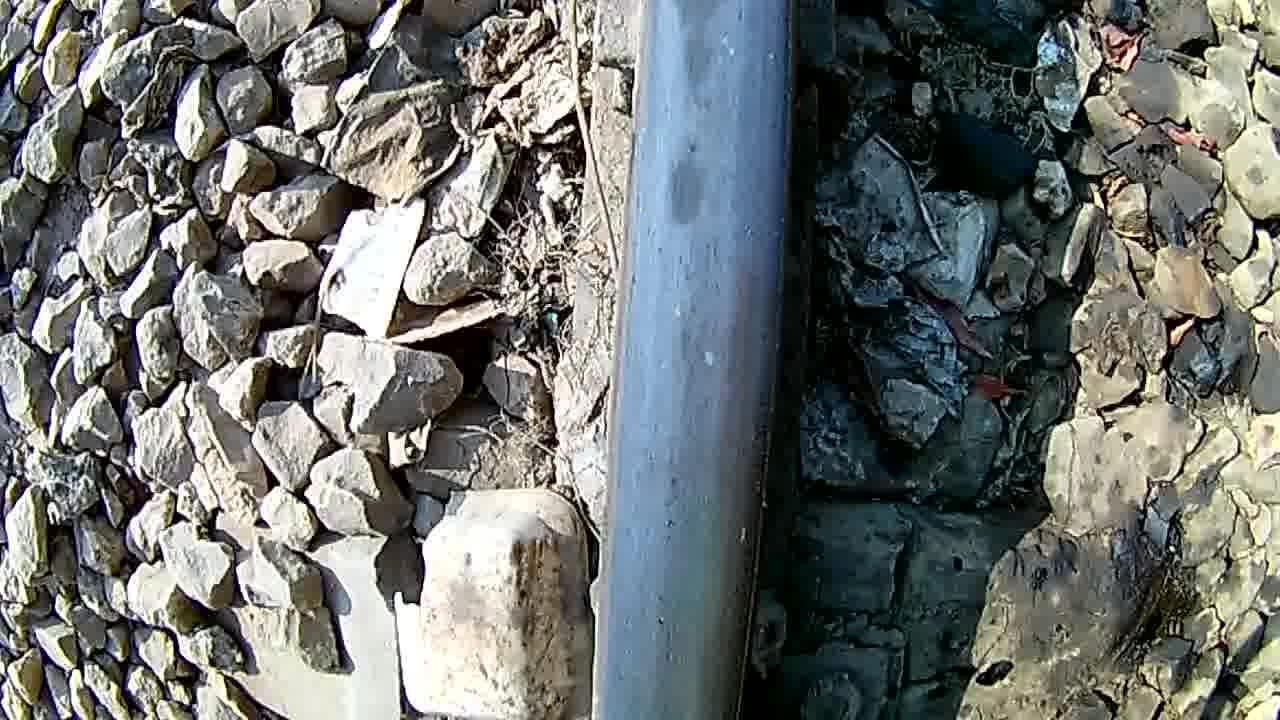crack: (636, 0, 808, 352)
